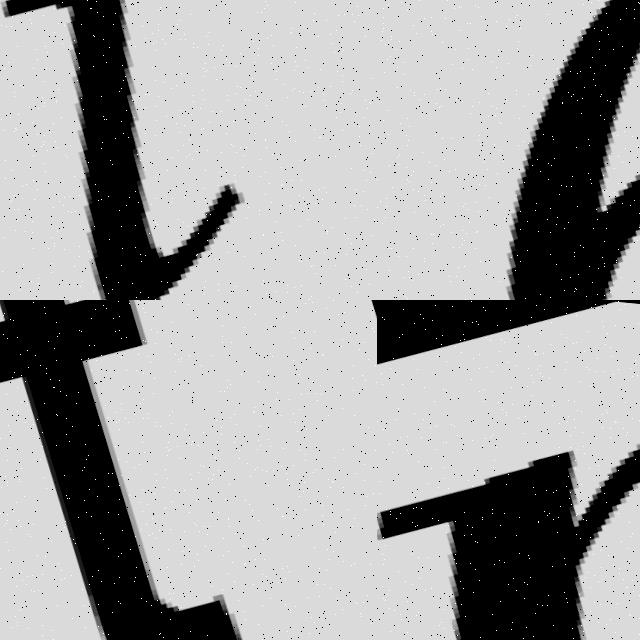6: (380, 0, 640, 300)
N: (377, 327, 640, 640)
T: (0, 0, 328, 300), (0, 300, 276, 640)
